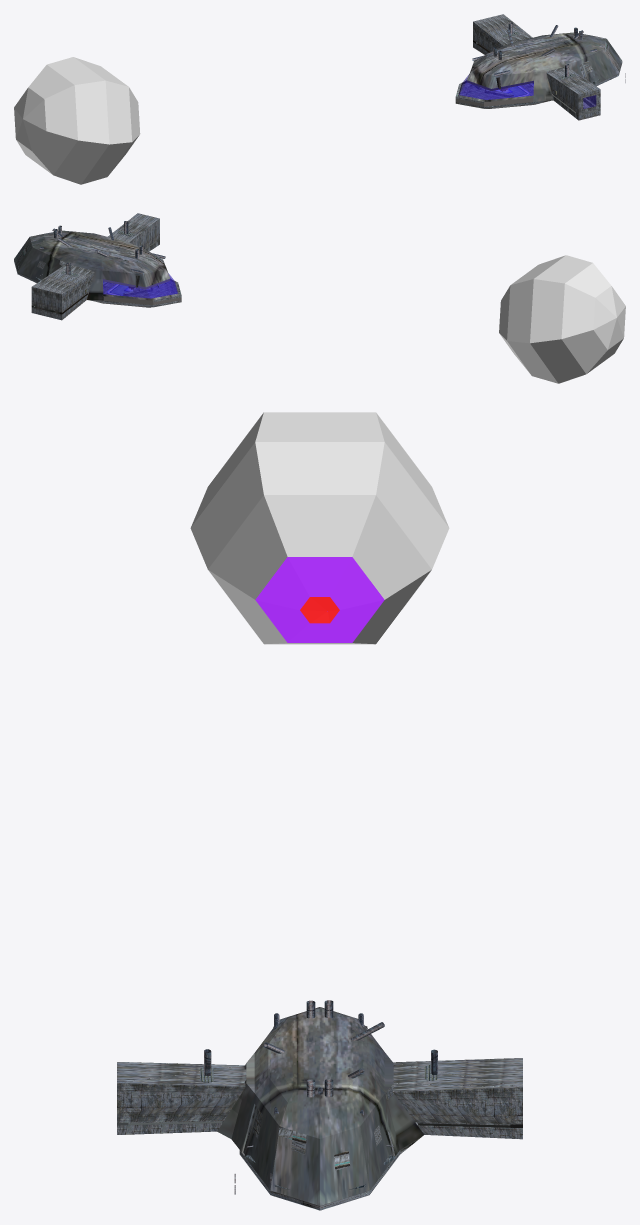
File: ship.glb
The picture shows the model from 3 angles, top to bottom: view 1: azimuth 30°, elevation 25°; view 2: azimuth 150°, elevation 25°; view 3: azimuth 270°, elevation 25°; orthographic projection. The views are drawn at different scales.
Parts seen in each view (by area): view 1: Sphere.001, ship; view 2: Sphere.001, ship; view 3: Sphere.001, ship.
Part boxes in pixels (<box>): Sphere.001: <box>14,57,140,184</box>; ship: <box>455,14,622,120</box>; Sphere.001: <box>499,255,625,383</box>; ship: <box>14,213,181,320</box>; Sphere.001: <box>190,412,449,644</box>; ship: <box>117,1007,522,1210</box>.
Size of the model in its own units: 121 by 24.95 by 35.48.
36 materials, 28 textured.
